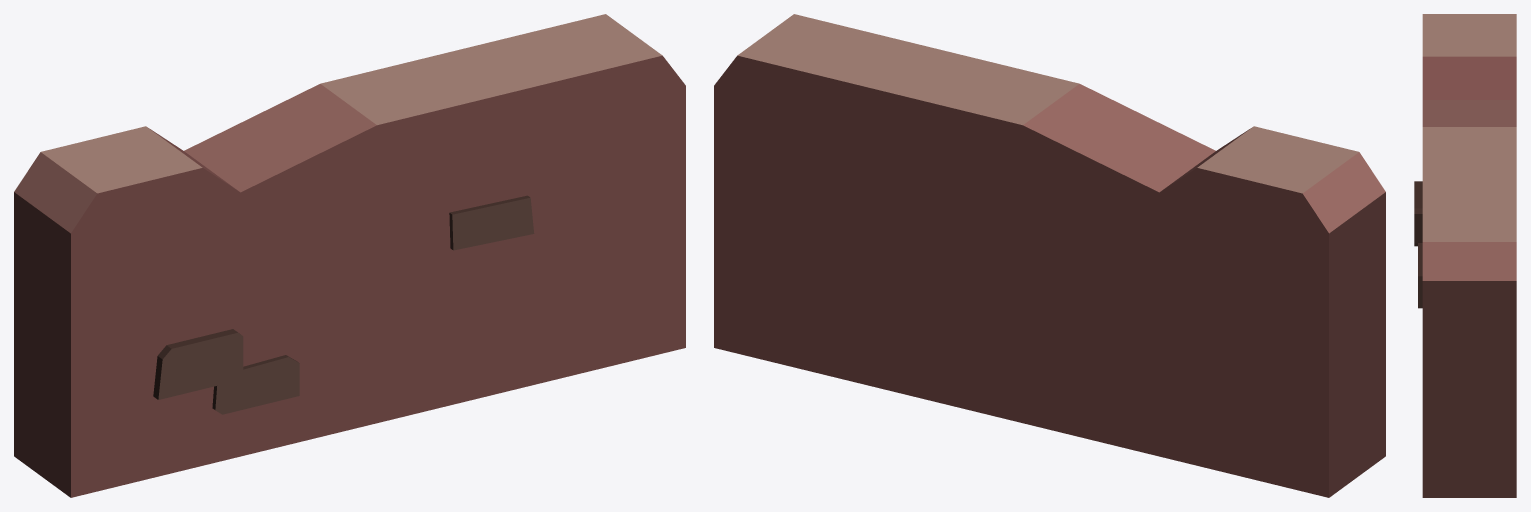
Rendered from TB_D_Bd_Fence_Dirt_Red_A.FBX.
3 views of the same model, side by side, from view 1: azimuth 30°, elevation 25°; view 2: azimuth 150°, elevation 25°; view 3: azimuth 270°, elevation 25° (orthographic). The views are drawn at different scales.
Parts seen in each view (by area): view 1: TB_D_Bd_Fence_Dirt_Red_A; view 2: TB_D_Bd_Fence_Dirt_Red_A; view 3: TB_D_Bd_Fence_Dirt_Red_A.
Part boxes in pixels (<box>): TB_D_Bd_Fence_Dirt_Red_A: <box>14,14,685,497</box>; TB_D_Bd_Fence_Dirt_Red_A: <box>714,14,1385,497</box>; TB_D_Bd_Fence_Dirt_Red_A: <box>1414,14,1516,497</box>.
Size of the model in its own units: 2.5 by 1.16 by 0.4358.
